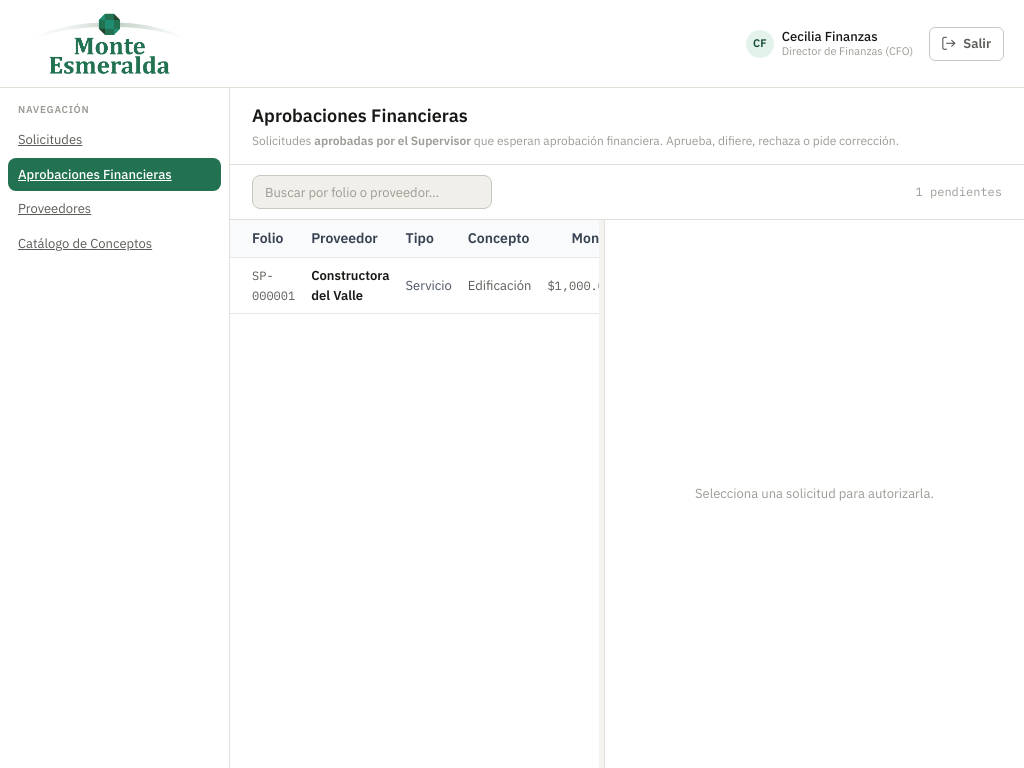
Scenario: al actuar, la solicitud SALE de la bandeja y el panel lo avisa
This screenshot has width=1024, height=768.
Step 1. Click the text "SP-000001" → (263, 276), box [252, 268, 295, 302]
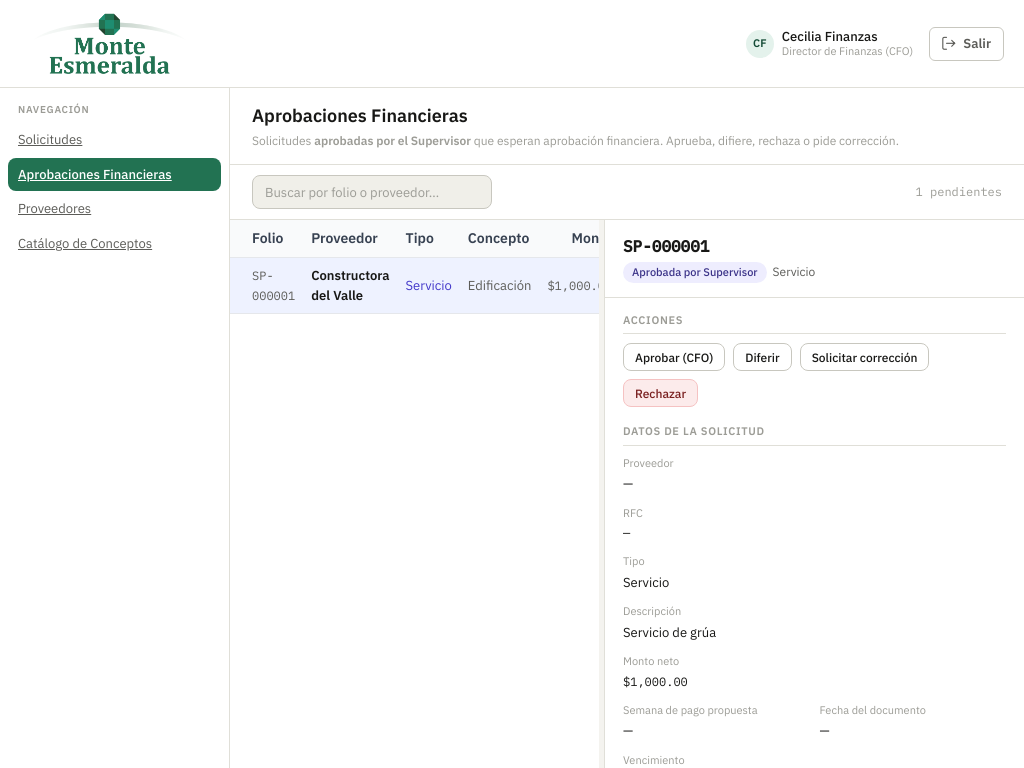
Expected: the text "Acciones" is shown, [623, 312, 1006, 334]
Step 2. Click the button "Aprobar (CFO)" → (674, 357), box [623, 343, 725, 371]
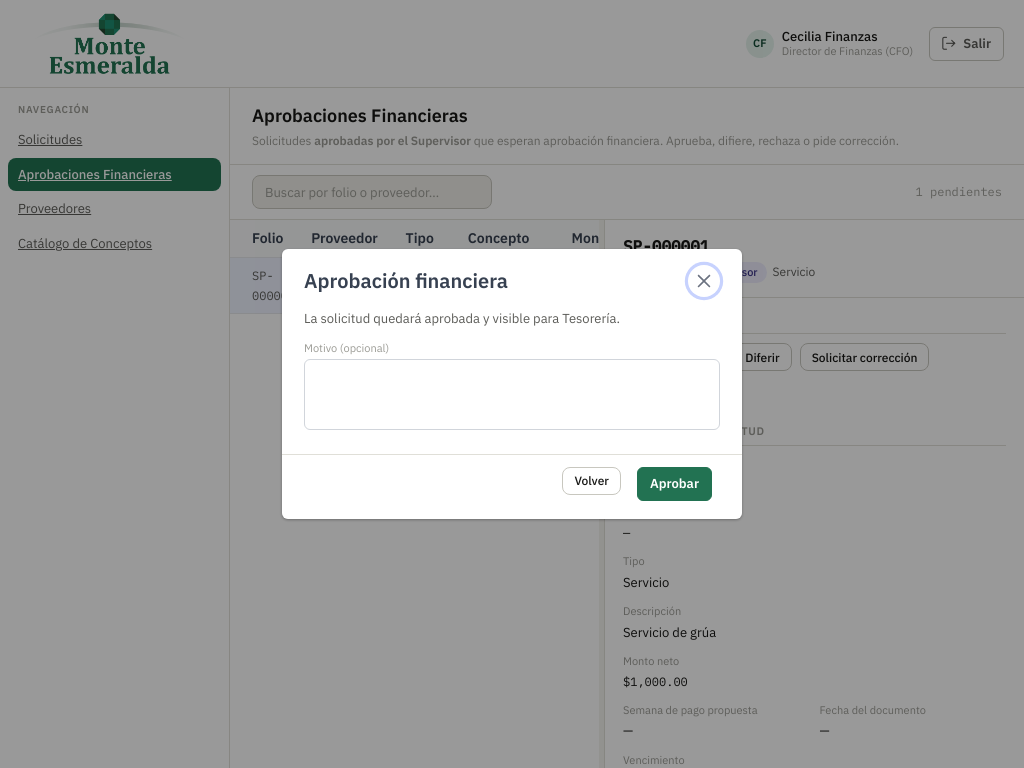
Expected: the text "Aprobación financiera" is shown, [304, 267, 508, 294]
Step 3. Click the button "Aprobar" → (674, 484), box [637, 467, 712, 501]
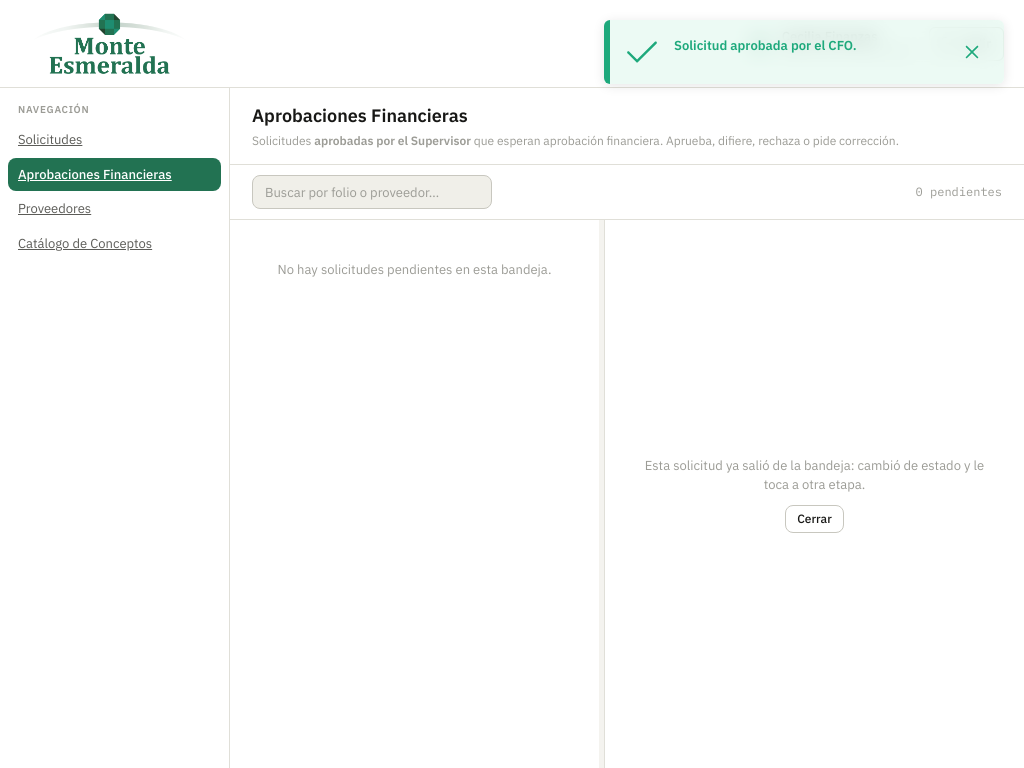
Expected: the text "ya salió de la bandeja" is shown, [645, 456, 984, 493]
Expected: the text "SP-000001" is gone
Expected: the text "No hay solicitudes pendientes en esta bandeja." is shown, [278, 261, 551, 278]
